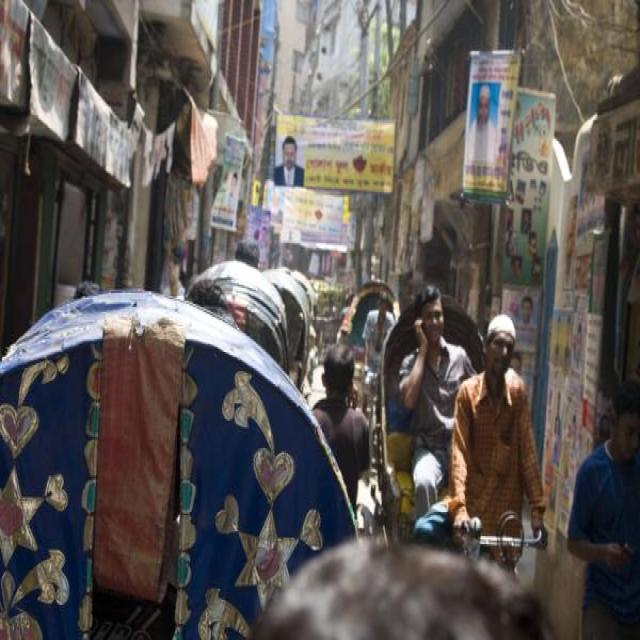Rickshaw: (382, 290, 544, 575)
